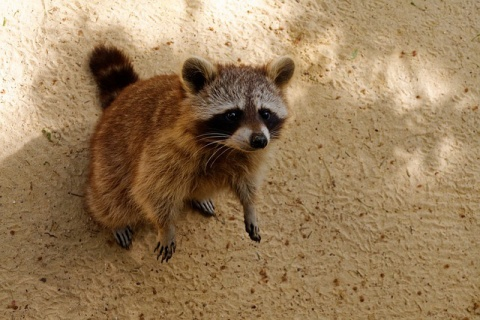Raccoon: (64, 39, 300, 267)
